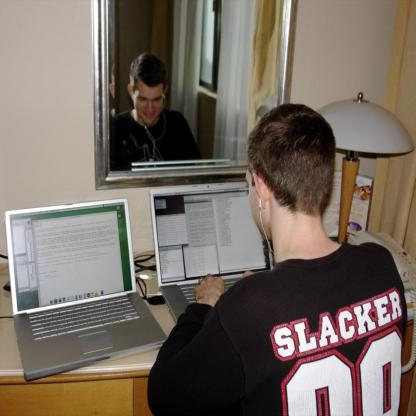board: (3, 196, 162, 392), (150, 181, 273, 326)
